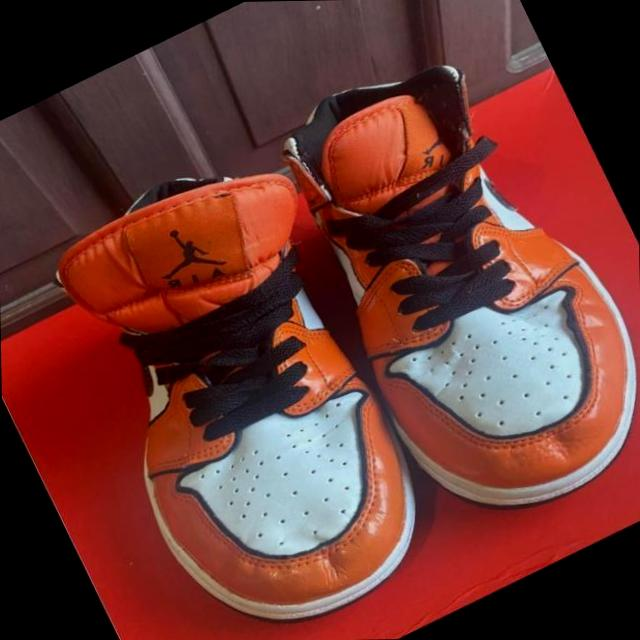nike_fake_jordan: (12, 123, 474, 640), (237, 14, 640, 560)
